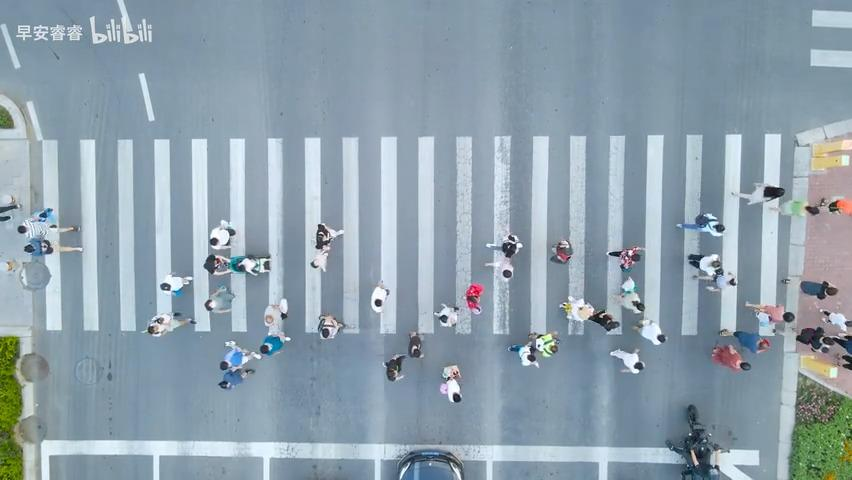Civilian: (17, 207, 81, 255), (218, 340, 260, 389), (687, 252, 737, 291), (484, 233, 523, 278), (309, 222, 344, 272), (203, 253, 270, 276), (146, 311, 196, 337), (718, 328, 770, 353), (730, 182, 785, 205), (744, 300, 794, 325), (675, 212, 725, 237), (612, 276, 645, 313), (711, 342, 751, 372), (263, 298, 288, 339), (606, 245, 645, 271), (616, 324, 652, 351), (631, 318, 667, 345), (769, 198, 819, 217), (204, 284, 235, 314), (527, 330, 560, 357), (208, 219, 236, 250), (159, 271, 193, 296), (440, 365, 462, 402), (507, 342, 539, 367), (799, 279, 838, 299), (317, 313, 346, 339), (382, 353, 406, 381), (819, 195, 851, 216), (433, 302, 459, 327), (370, 279, 389, 313), (549, 238, 573, 264), (464, 283, 483, 314), (407, 330, 424, 358)
